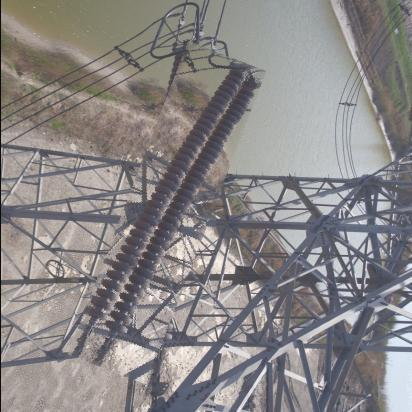insulator: (96, 44, 238, 384)
